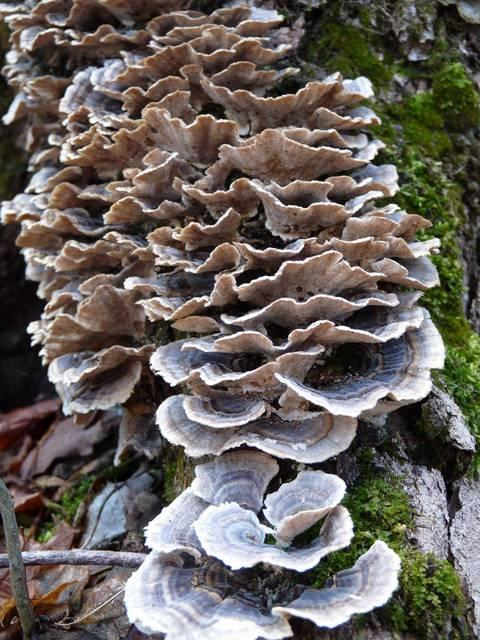Non-edible Mushroom: (1, 1, 448, 637)
